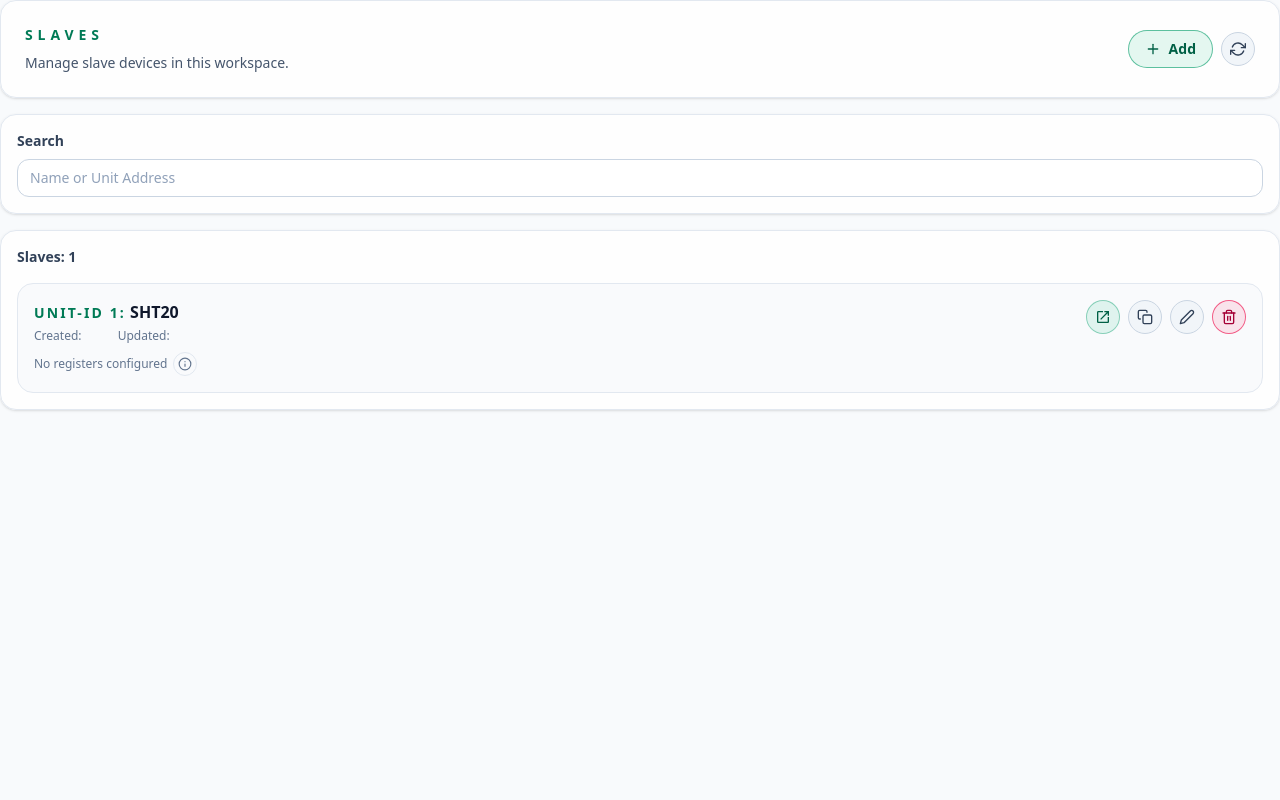
Test: SlavesPage › surfaces clone failures in the dialog
Click the button named "clone" at (1145, 317), box [1128, 300, 1162, 334]
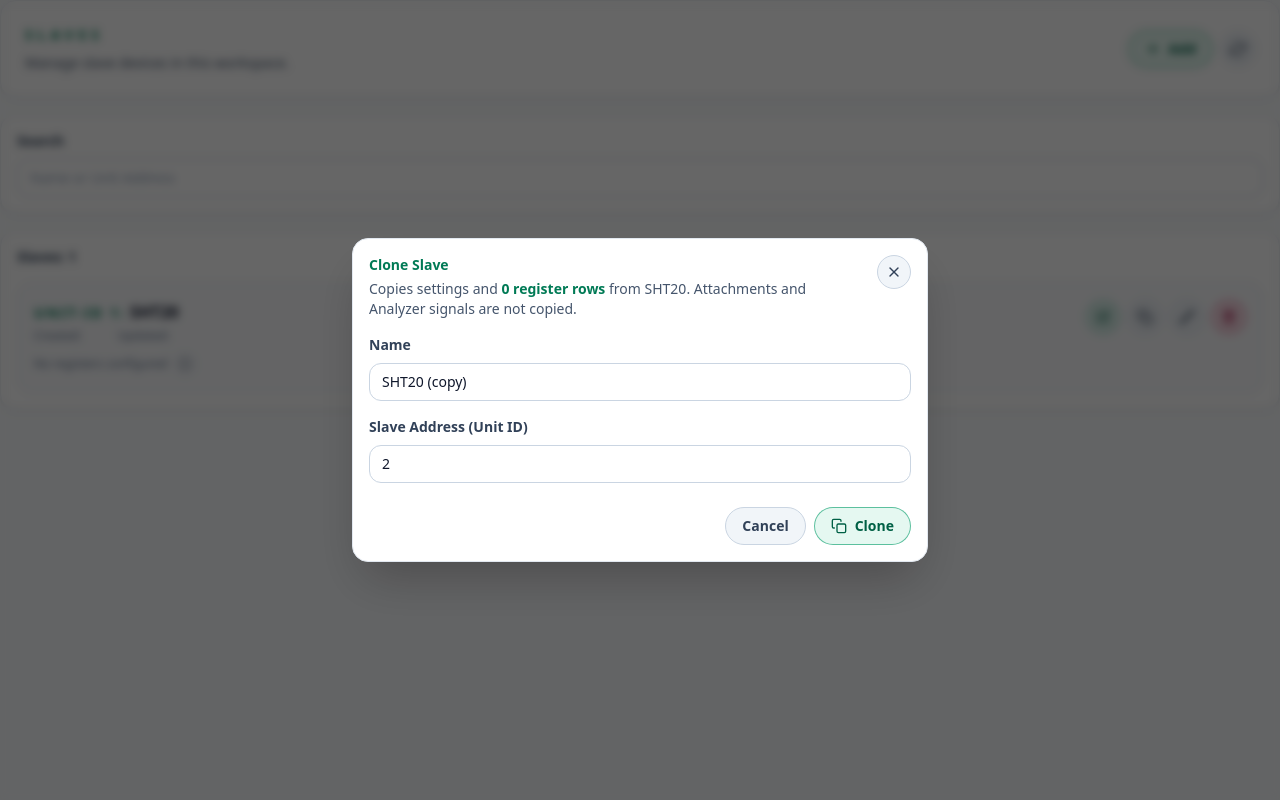
Click the button "Clone" at (862, 526), box [814, 507, 911, 545]
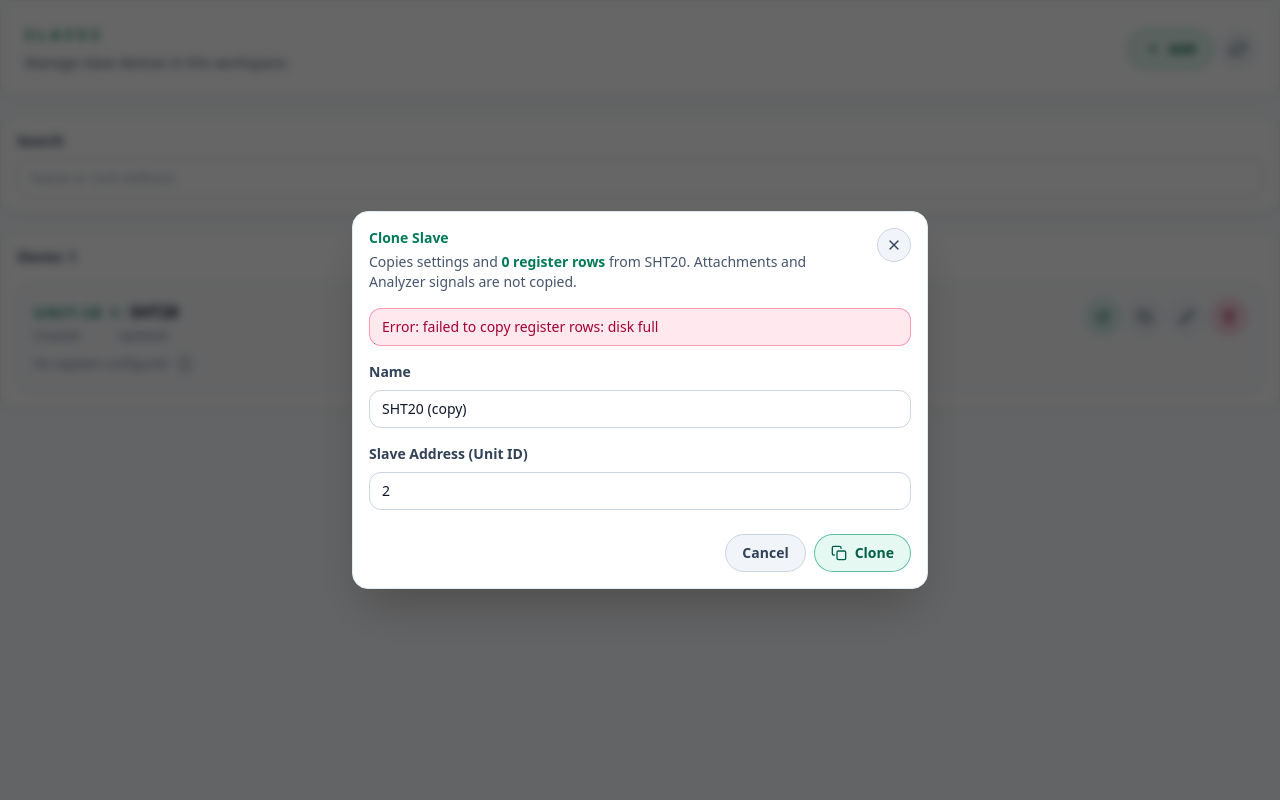
Expected: the text "Error: failed to copy register rows: disk full" is shown, [369, 308, 911, 346]
